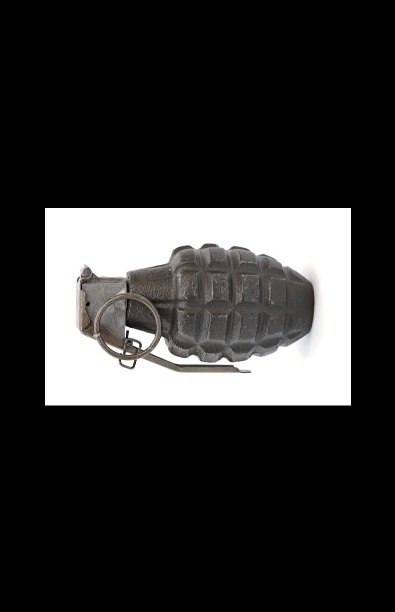e1: (74, 240, 317, 374)
